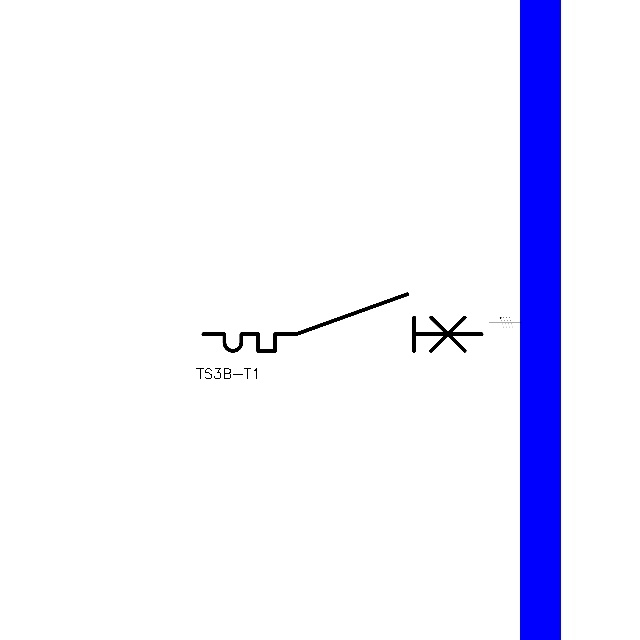interruptor_termomagnetico: (196, 287, 489, 358)
